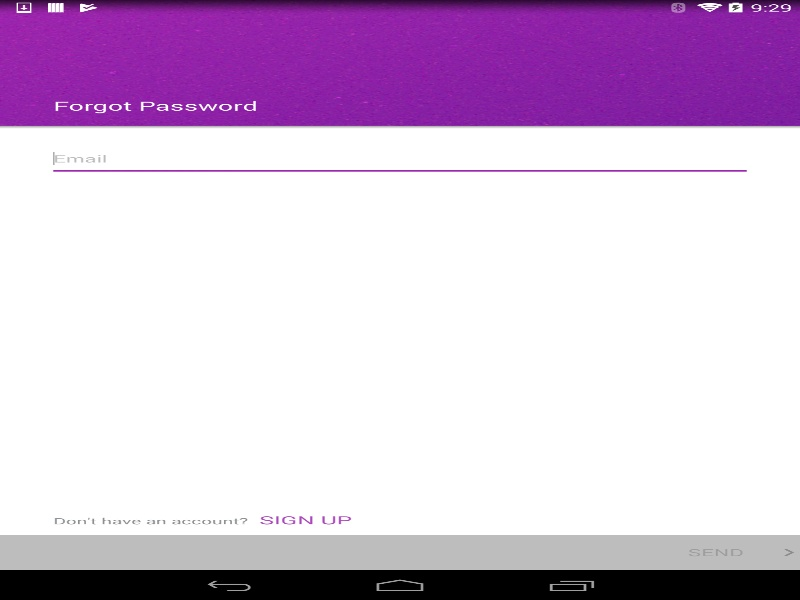Button: (682, 537, 800, 567), (254, 505, 357, 535)
Input: (53, 139, 746, 175)
